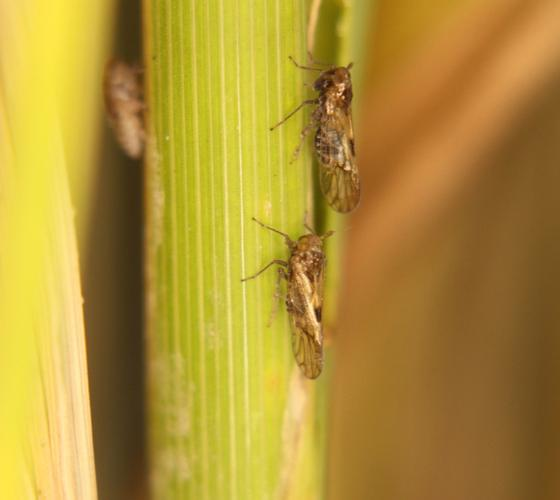Delphacidae: (239, 210, 339, 381), (268, 48, 362, 212)
